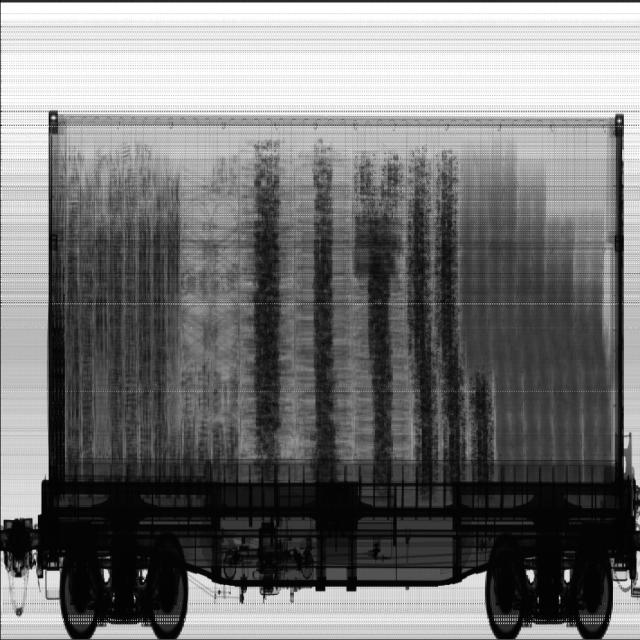clothes: (462, 161, 612, 468)
tableware: (181, 172, 239, 475)
